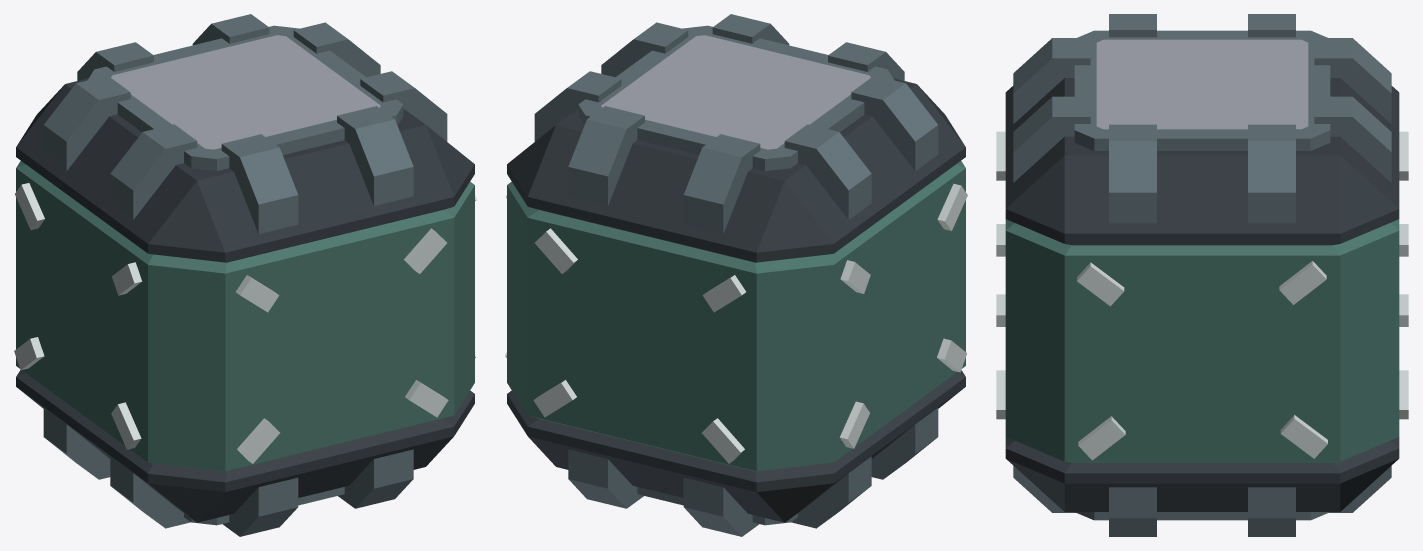
Rendered from prop11.FBX.
3 views of the same model, side by side, from view 1: azimuth 30°, elevation 25°; view 2: azimuth 150°, elevation 25°; view 3: azimuth 270°, elevation 25° (orthographic). The views are drawn at different scales.
Visible parts, largest first — view 1: prop11; view 2: prop11; view 3: prop11.
Part boxes in pixels (x1,y1,x2,y2): prop11: (14,14,476,536); prop11: (505,14,967,536); prop11: (996,14,1408,536).
Bounding box in the file's own units: 6.78 × 7.19 × 6.78.
